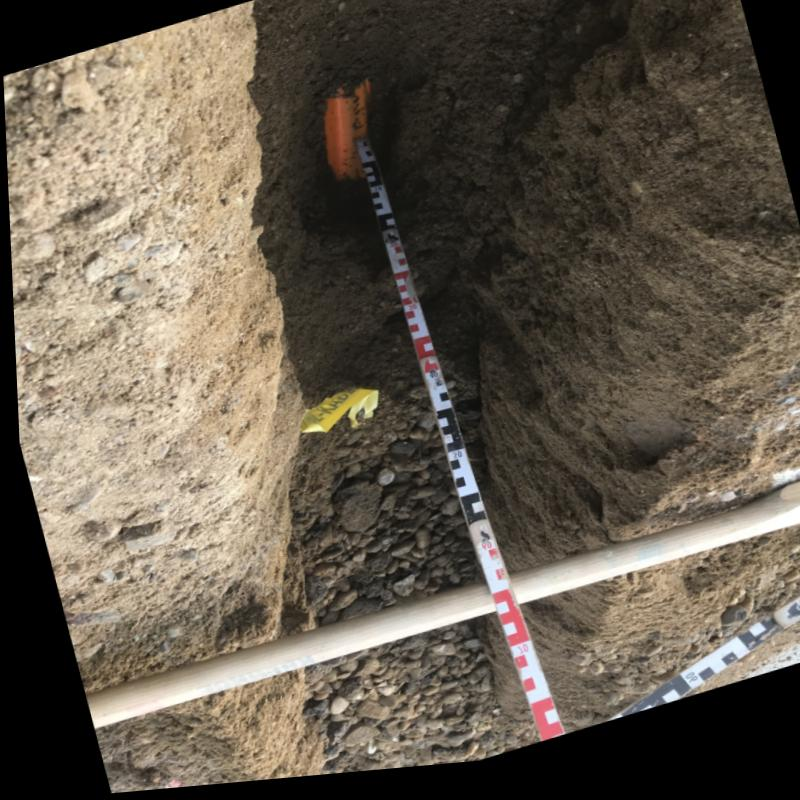Orang-Speednetrohrchen: (325, 89, 367, 187)
